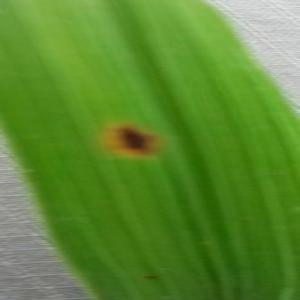0 BrownSpot: (103, 114, 166, 165), (138, 269, 165, 288)
